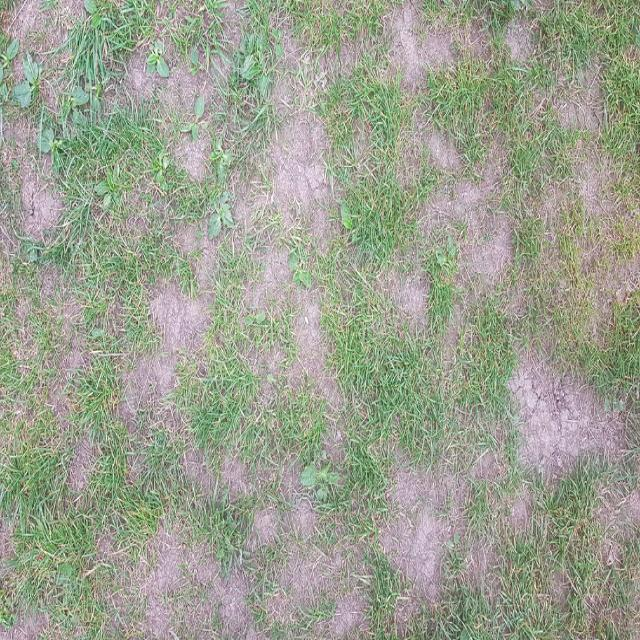grass: (0, 0, 639, 637), (408, 461, 615, 639), (185, 484, 261, 575), (465, 480, 496, 534), (493, 430, 519, 492), (248, 570, 276, 622), (41, 0, 58, 9)
white-sand: (119, 221, 218, 437), (106, 515, 270, 639), (379, 465, 498, 620), (236, 80, 336, 248), (509, 339, 624, 482), (249, 499, 368, 637), (420, 139, 512, 301), (286, 289, 343, 461), (388, 0, 453, 93), (411, 111, 463, 179), (380, 258, 429, 330), (18, 160, 62, 238), (246, 245, 294, 309), (48, 335, 81, 417), (561, 71, 599, 129), (576, 156, 613, 214), (220, 454, 267, 493), (0, 608, 50, 639), (442, 300, 465, 367), (180, 446, 215, 490), (67, 436, 96, 489), (498, 490, 533, 531), (250, 350, 280, 395), (173, 140, 208, 178), (469, 450, 505, 485), (169, 70, 194, 109), (505, 21, 530, 59), (130, 51, 150, 98)
